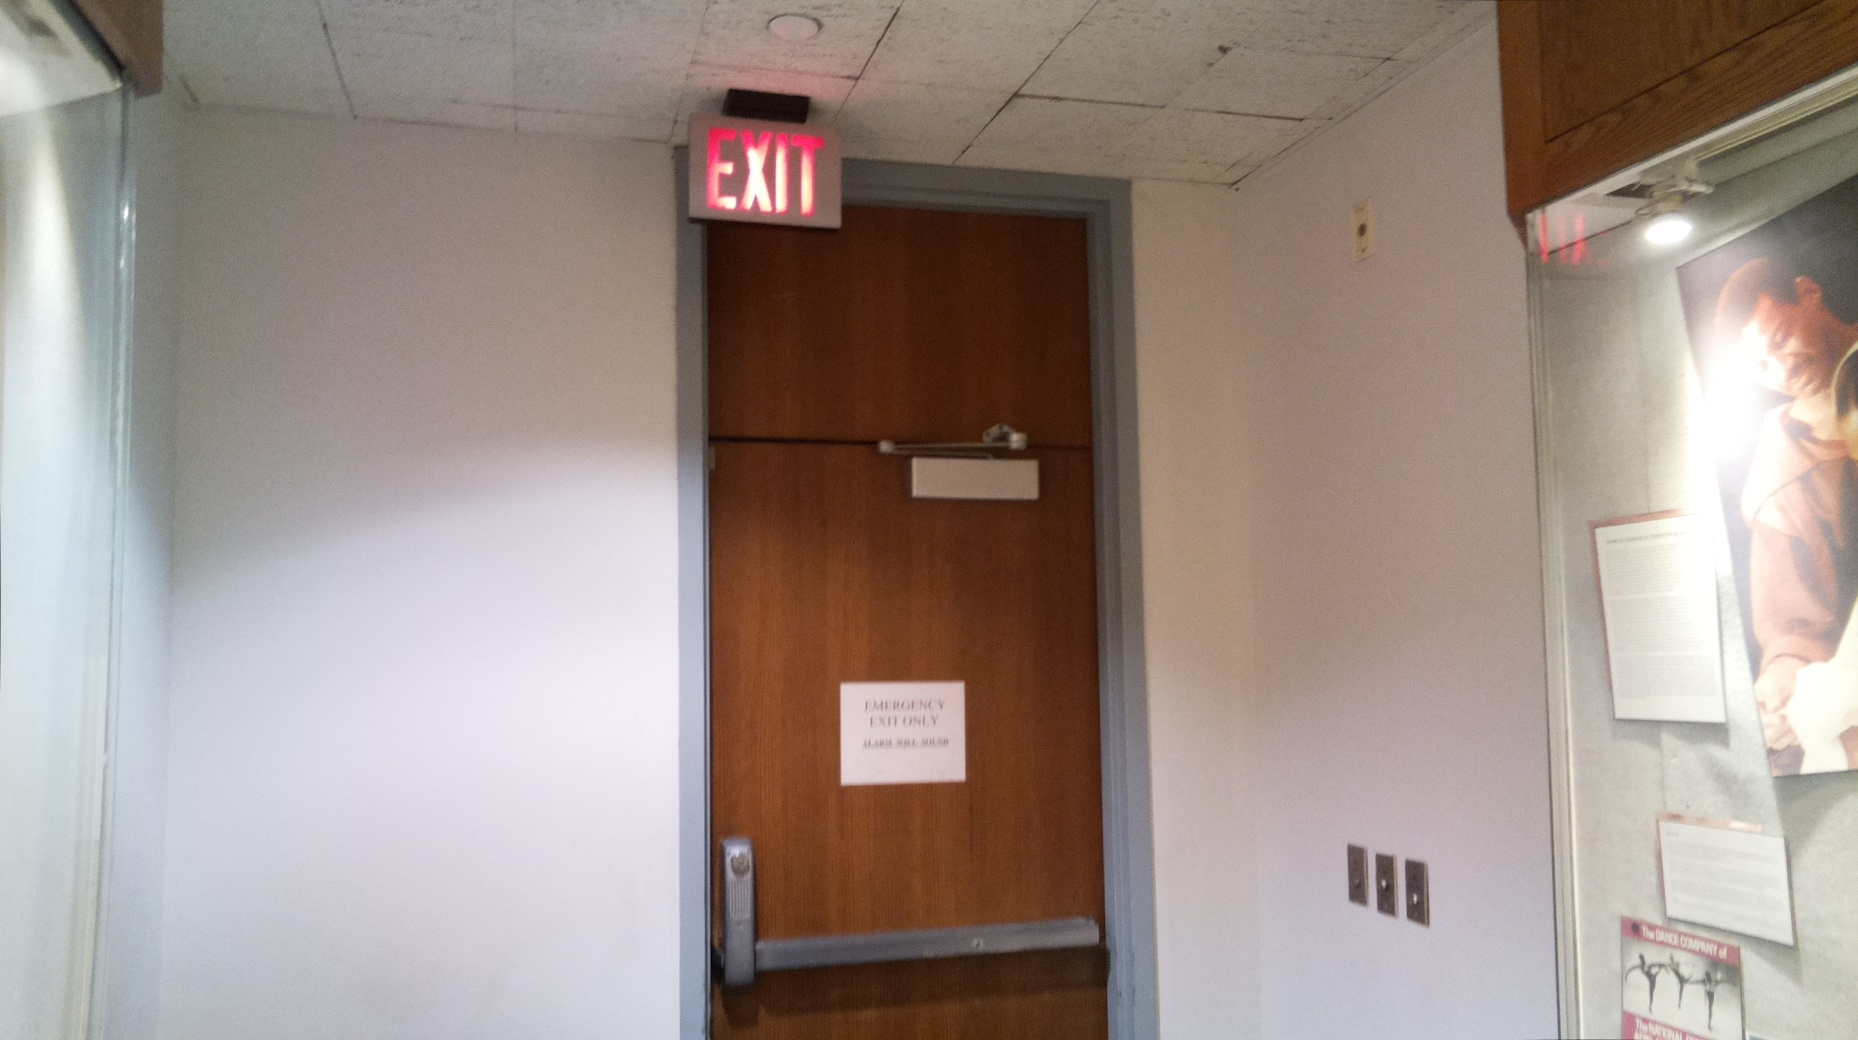exit sign: (679, 100, 852, 242)
